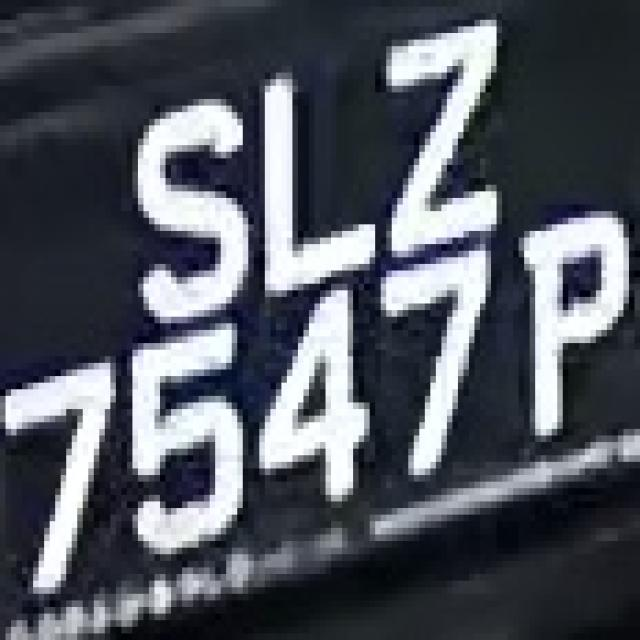4: (242, 297, 380, 521)
5: (132, 330, 243, 561)
7: (359, 244, 513, 475), (5, 369, 110, 607)
L: (232, 53, 375, 303)
P: (496, 204, 634, 448)
S: (122, 79, 260, 330)
Z: (375, 13, 513, 244)
